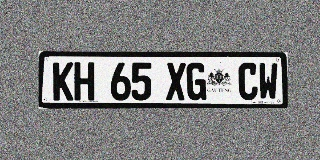5: (132, 62, 151, 100)
6: (111, 62, 131, 100)
C: (238, 63, 258, 100)
G: (187, 63, 206, 100)
H: (74, 62, 94, 101)
K: (53, 62, 73, 101)
W: (258, 63, 278, 100)
X: (166, 62, 186, 100)
